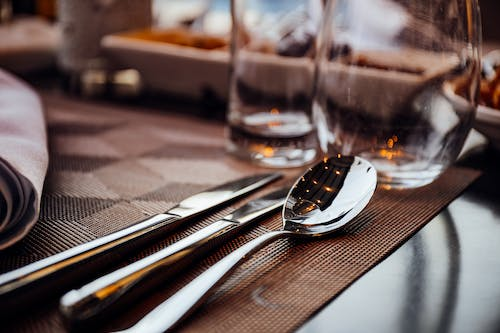knife: (0, 171, 286, 313), (58, 184, 292, 323)
